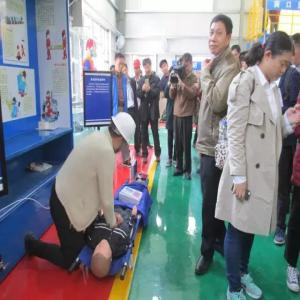none: (259, 30, 296, 84), (207, 14, 234, 59), (181, 52, 195, 79), (114, 52, 125, 77), (142, 58, 154, 78), (159, 58, 171, 77), (231, 44, 242, 59)
red: (134, 59, 142, 78)
white: (107, 110, 138, 155)
